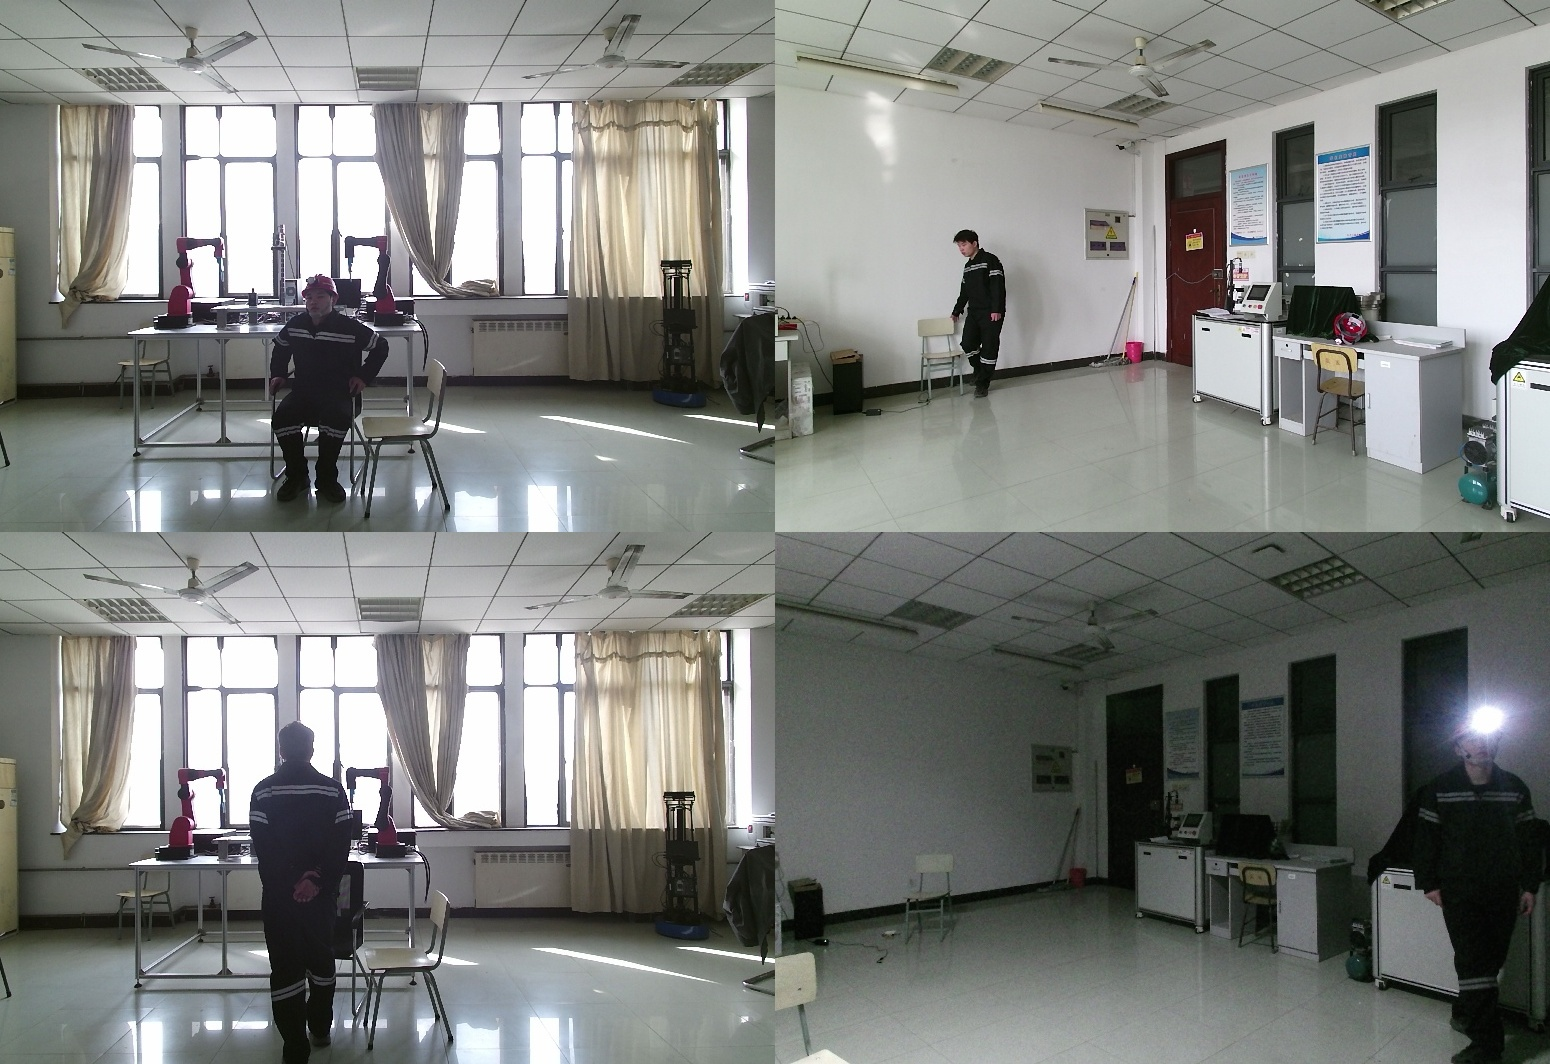person: (1417, 713, 1547, 1059), (246, 724, 355, 1064), (268, 276, 395, 503), (952, 229, 1011, 404)
